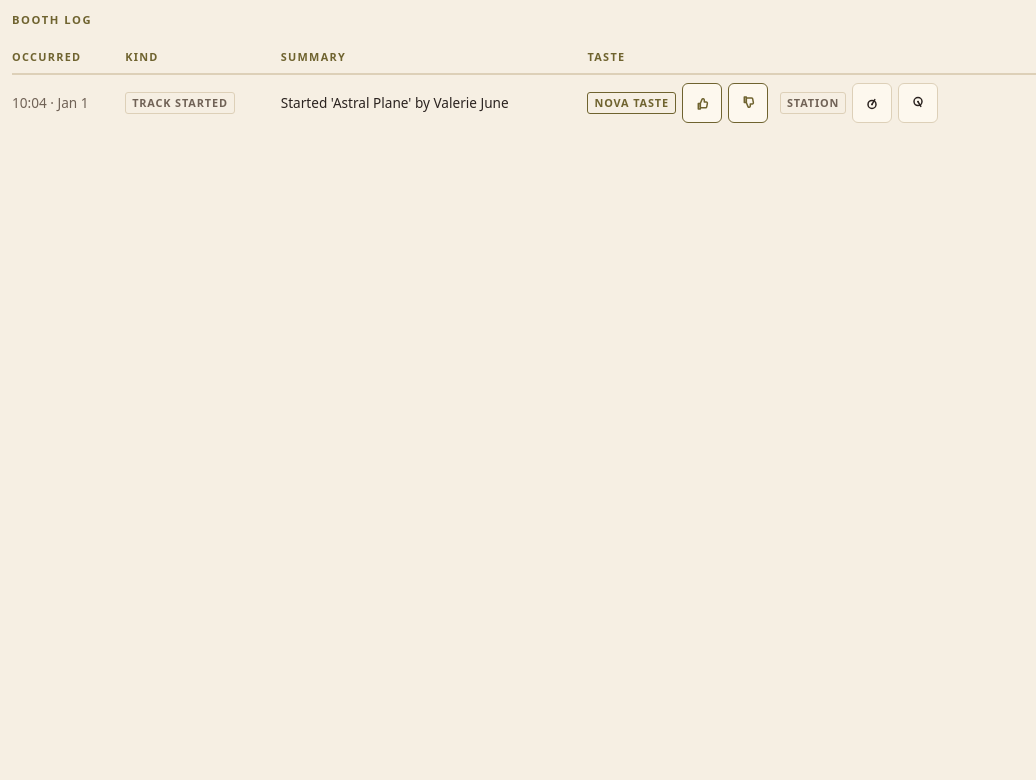
Test: Feature: Station-thumb controls › Scenario: thumbing a station rotation signal (sad path first, then the happy path) › posts to the station-thumb endpoint and marks the direction pressed on 200
Click the button named "Station thumbs down" at (918, 103), box [898,83,938,123]
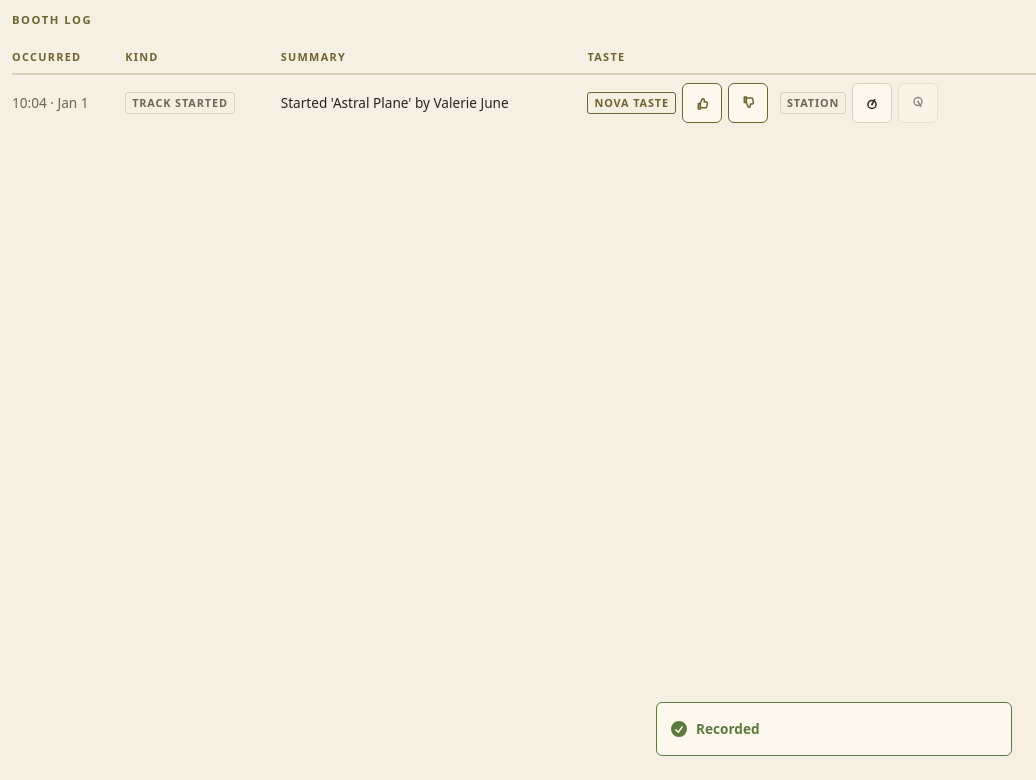
Expected: the button named "Station thumbs up" is enabled, [852,83,892,123]
Now the button named "Station thumbs down" is disabled, box [898,83,938,123]
